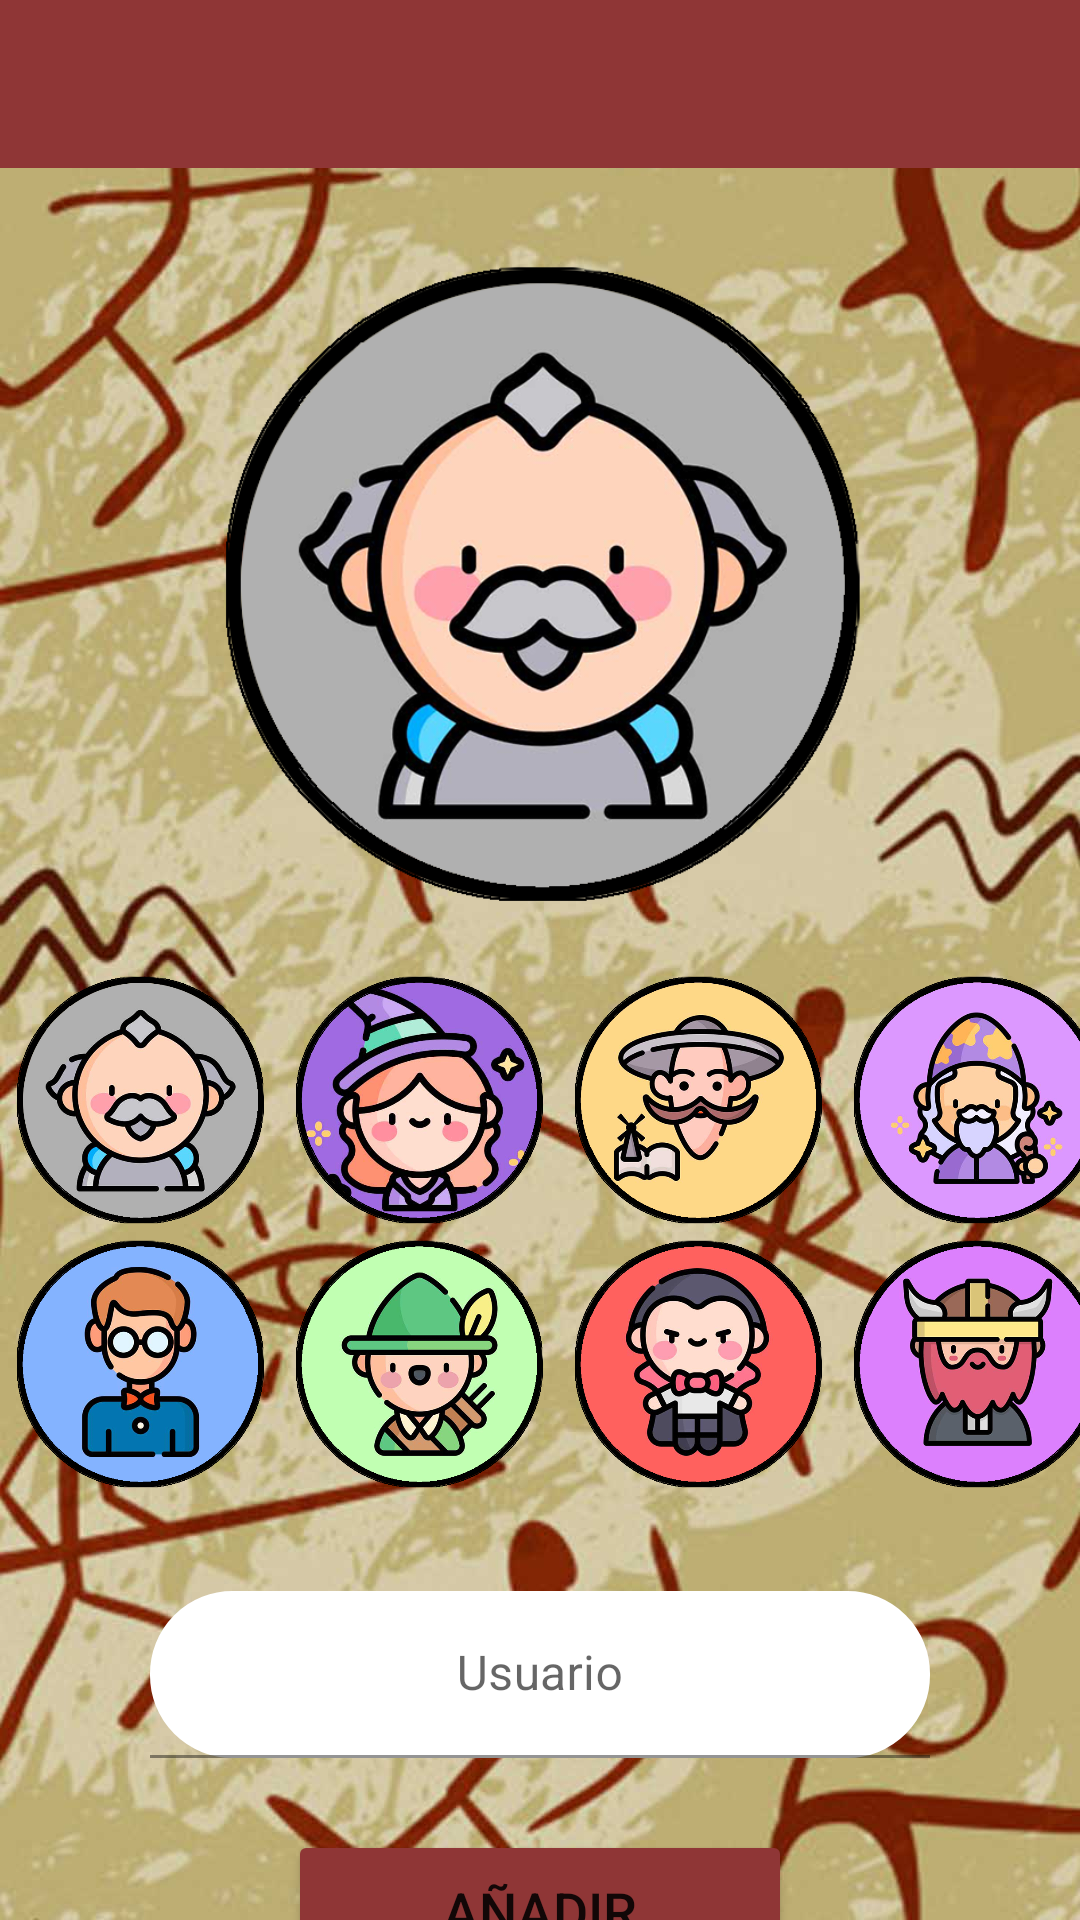

Point at icon controls on the screen. Image size 1080w x 1920h, points as (x,y).
bruja: (418,1098)
nerd: (139,1362)
vampire: (697,1362)
